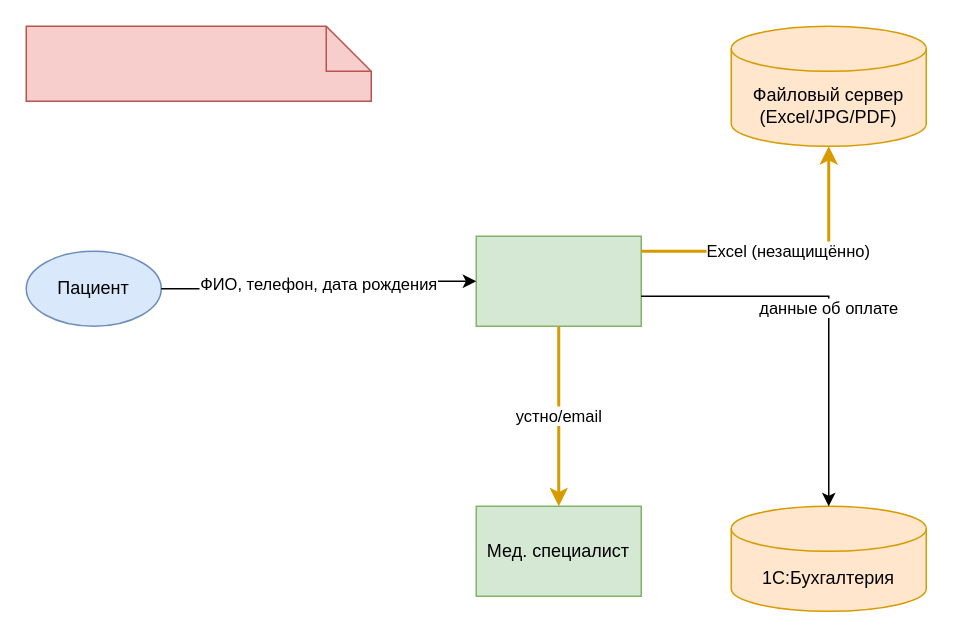
Image size: 953x638. Some labels were removed from this diagram. Here are the shapes that lost their labels. From the top down, the box of each, then its label:
(25, 25, 371, 101): ⚠️ Риск: данные в открытом доступе, нет аудита
(475, 235, 641, 326): Ресепшен
